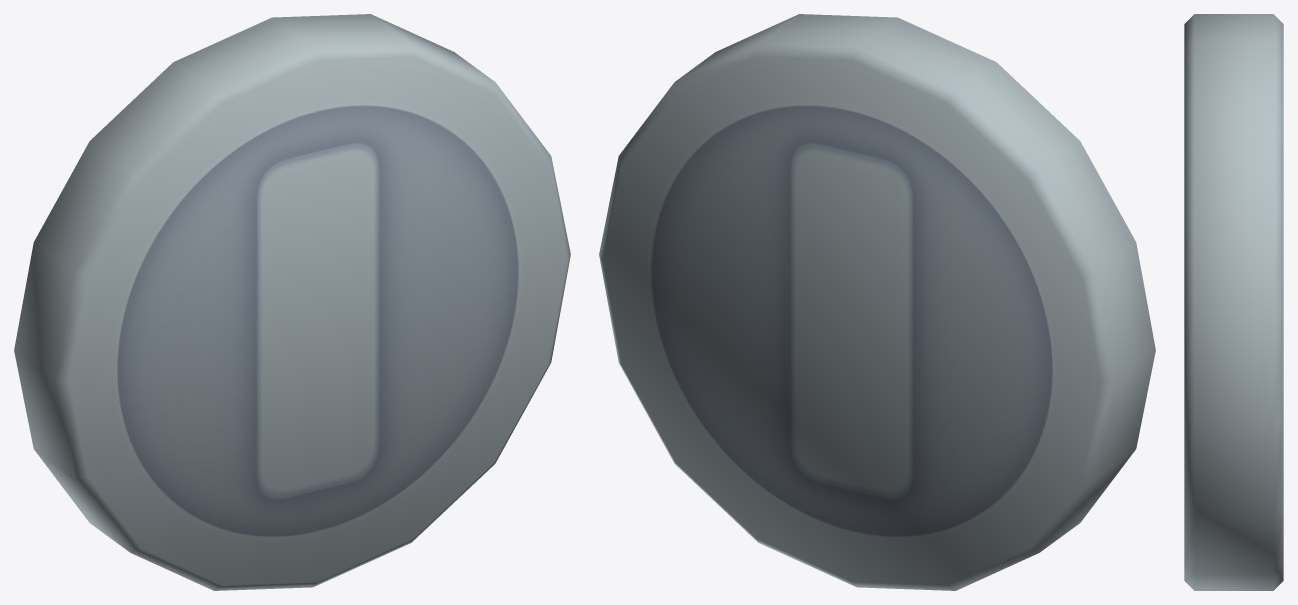
File: Coin_One_Silver.FBX
The picture shows the model from 3 angles, left to right: view 1: azimuth 30°, elevation 25°; view 2: azimuth 150°, elevation 25°; view 3: azimuth 270°, elevation 25°; orthographic projection. The views are drawn at different scales.
Visible parts, largest first — view 1: Coin_One_Silver; view 2: Coin_One_Silver; view 3: Coin_One_Silver.
Part boxes in pixels (x1,y1,x2,y2): Coin_One_Silver: (14,14,570,590); Coin_One_Silver: (599,14,1155,590); Coin_One_Silver: (1184,14,1283,590).
Bounding box in the file's own units: 70 × 70 × 12.
1 material, 1 textured.
